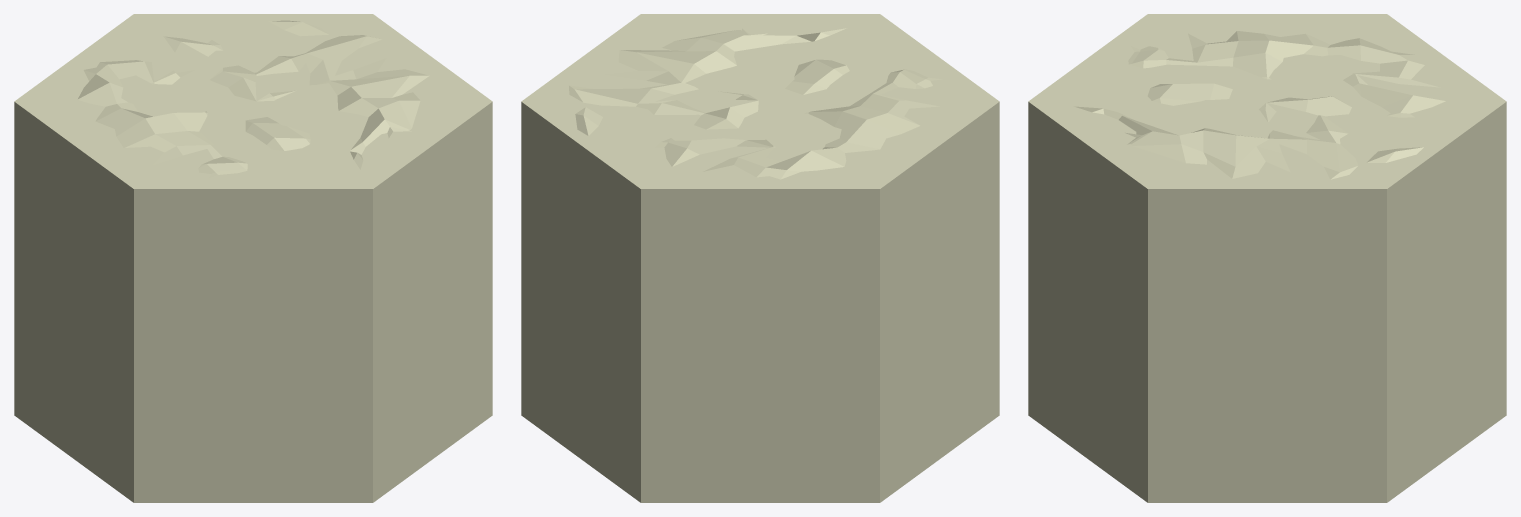
Rendered from sand tile.fbx.
The picture shows the model from 3 angles, left to right: view 1: azimuth 30°, elevation 25°; view 2: azimuth 150°, elevation 25°; view 3: azimuth 270°, elevation 25°; orthographic projection.
Parts seen in each view (by area): view 1: basic tile, Plane; view 2: basic tile, Plane; view 3: basic tile, Plane.
Part boxes in pixels (x1,y1,x2,y2): basic tile: (14, 14, 492, 502); Plane: (77, 20, 429, 179); basic tile: (521, 14, 999, 502); Plane: (569, 28, 942, 179); basic tile: (1028, 14, 1506, 502); Plane: (1074, 31, 1445, 179).
Size of the model in its own units: 173 by 149 by 200.
